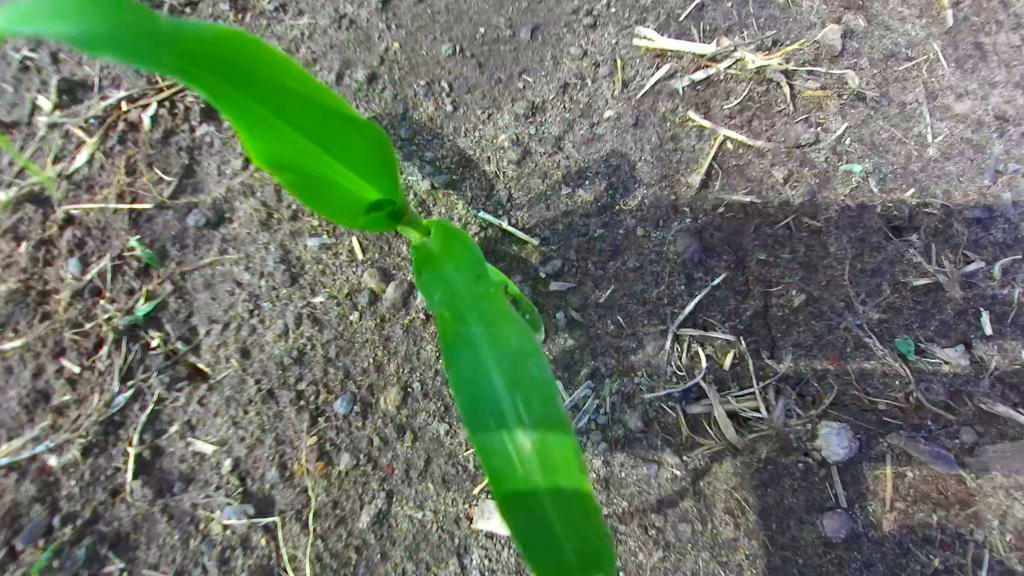BroWeed: (119, 293, 169, 336), (95, 381, 141, 424), (23, 534, 69, 576), (124, 233, 165, 272), (892, 332, 921, 366), (511, 240, 546, 268), (136, 98, 159, 132), (307, 457, 335, 482), (0, 184, 18, 210), (838, 162, 864, 178), (291, 461, 304, 486)
